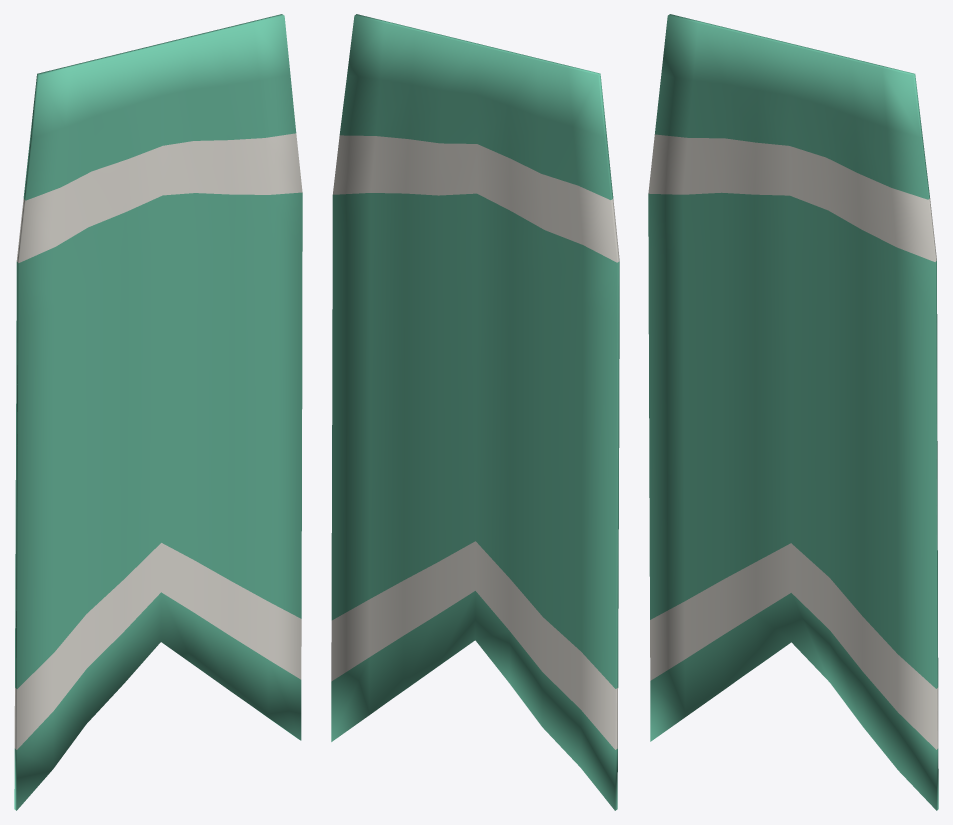
The model's file is banner_teal_c.glb.
The picture shows the model from 3 angles, left to right: view 1: azimuth 30°, elevation 25°; view 2: azimuth 150°, elevation 25°; view 3: azimuth 330°, elevation 25°; orthographic projection.
Parts seen in each view (by area): view 1: banner_teal_c; view 2: banner_teal_c; view 3: banner_teal_c.
Boxes of the visible parts, x1=… form: banner_teal_c: x1=14, y1=14, x2=302, y2=810; banner_teal_c: x1=331, y1=14, x2=619, y2=810; banner_teal_c: x1=648, y1=14, x2=938, y2=810.
Bounding box in the file's own units: 1.1 × 2.7 × 0.0533.
